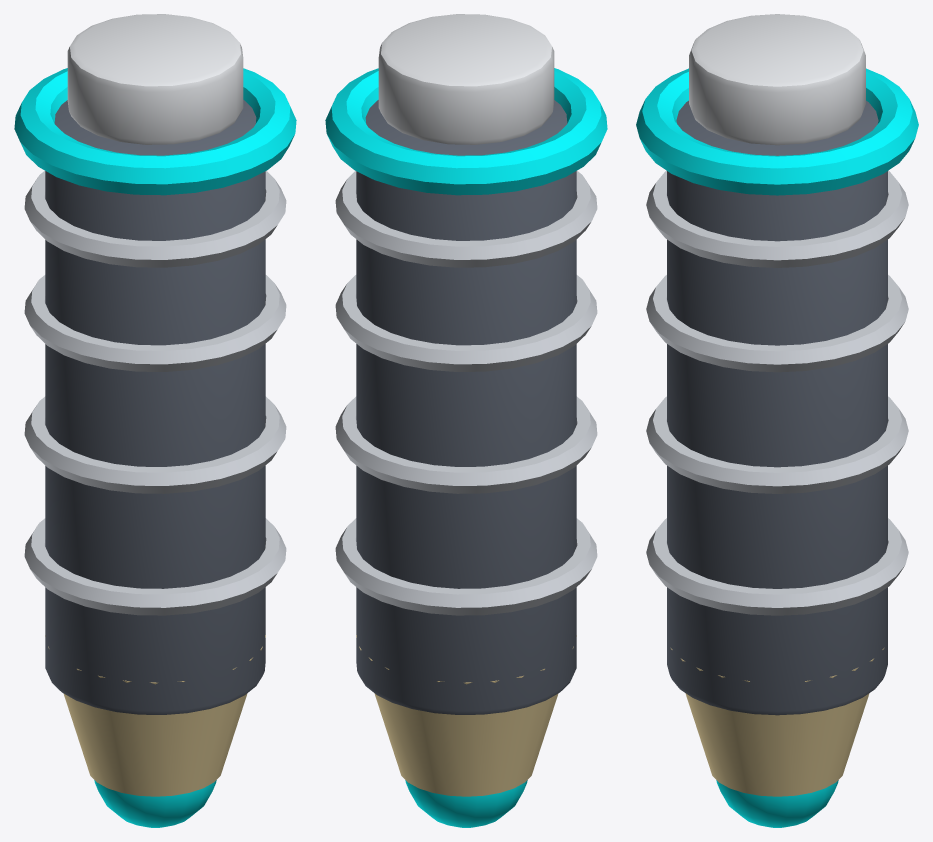
File: wave_emitter.glb
3 renders of one model, left to right at view 1: azimuth 30°, elevation 25°; view 2: azimuth 150°, elevation 25°; view 3: azimuth 270°, elevation 25°, orthographic.
Parts seen in each view (by area): view 1: Cylinder; view 2: Cylinder; view 3: Cylinder.
Part boxes in pixels (bbox=[...]): Cylinder: bbox=[14, 14, 296, 827]; Cylinder: bbox=[325, 14, 607, 827]; Cylinder: bbox=[636, 14, 918, 827].
Bounding box in the file's own units: 0.7372 × 2.23 × 0.7372.
